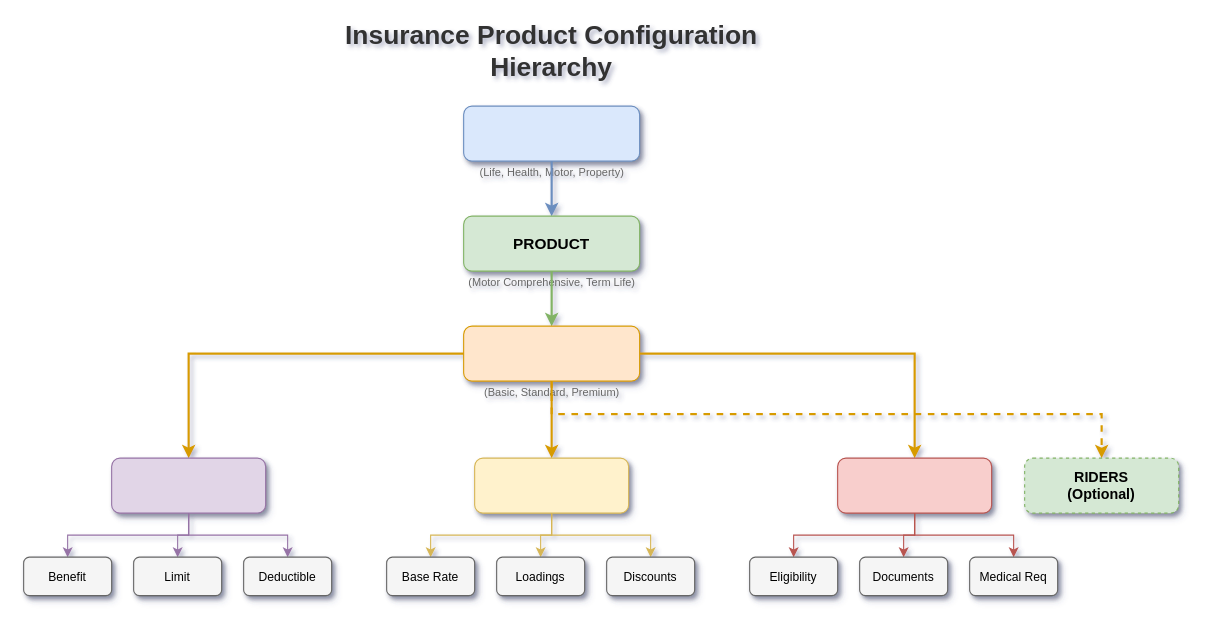
The diagram is 1211 pixels wide and 629 high, and some of its shapes have lost their labels. Each missing label, with the centre of its shape:
"COVERAGE" belongs at point 189,487.
"LINE OF BUSINESS" belongs at point 552,135.
"PLAN" belongs at point 552,355.
"PREMIUM RULES" belongs at point 552,487.
"UNDERWRITING RULES" belongs at point 915,487.
